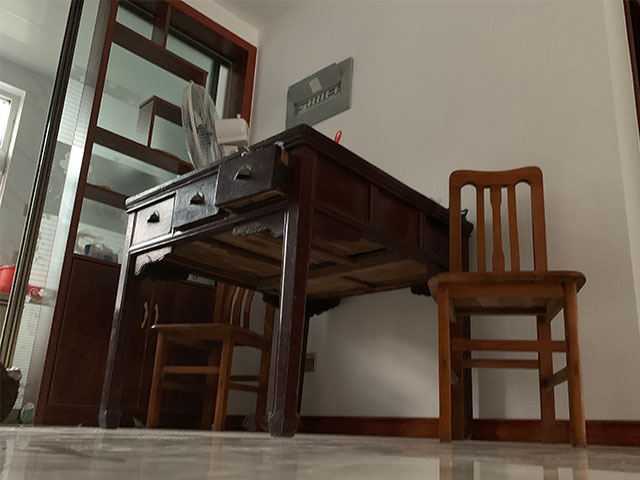cabinet: (18, 246, 227, 429)
stool: (426, 164, 587, 449), (144, 280, 276, 432)
table: (96, 122, 476, 440)
